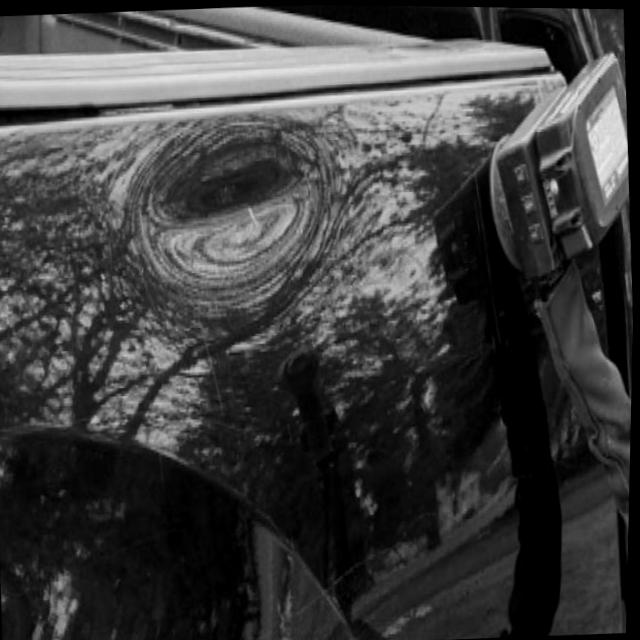Dent: (115, 104, 349, 320)
